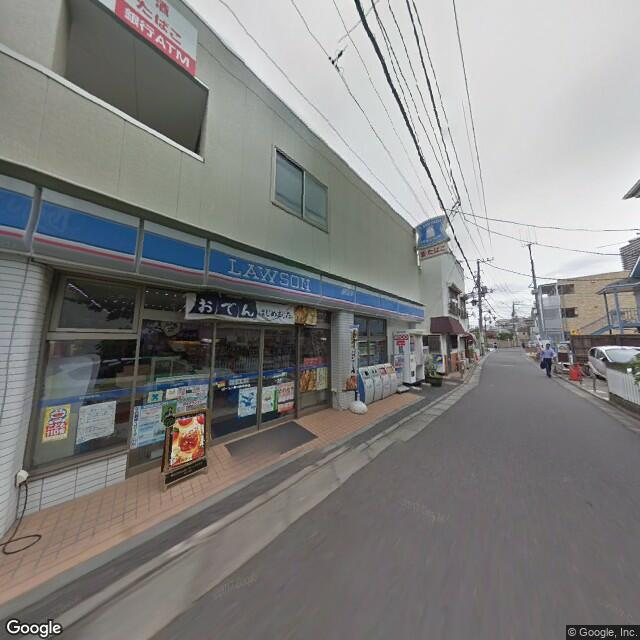lawson: (2, 174, 424, 324), (411, 213, 448, 252)
